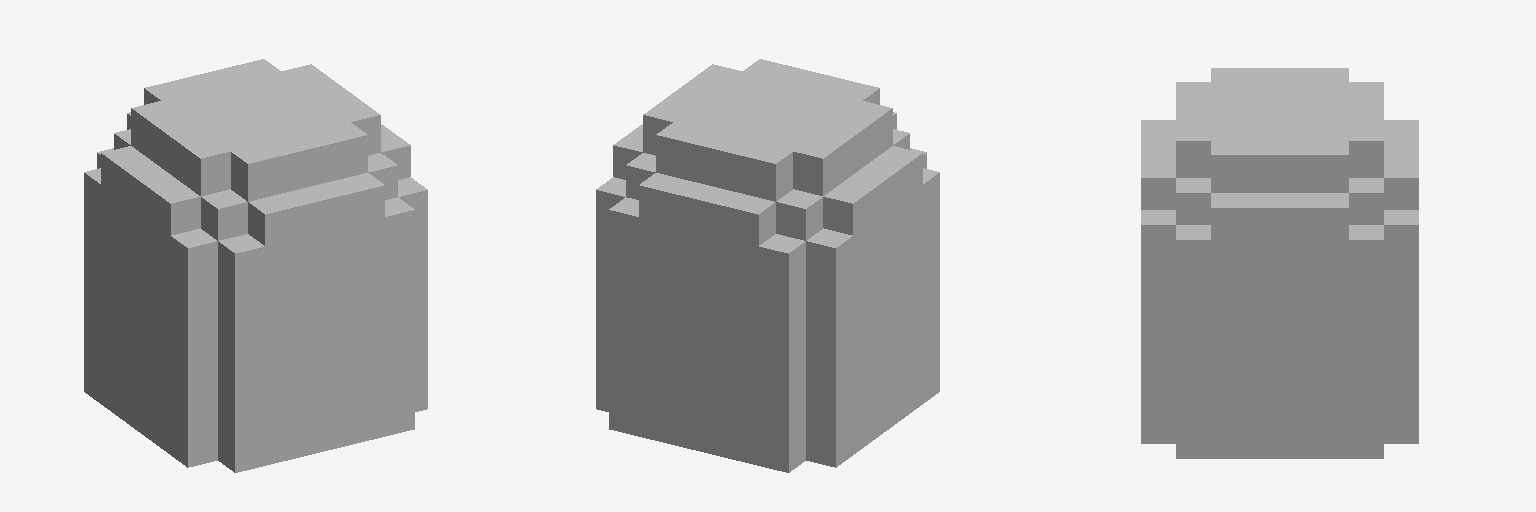
File: pakaman wall.obj
3 renders of one model, left to right at view 1: azimuth 30°, elevation 25°; view 2: azimuth 150°, elevation 25°; view 3: azimuth 270°, elevation 25°, orthographic.
Parts seen in each view (by area): view 1: Plane; view 2: Plane; view 3: Plane.
Part boxes in pixels (left/top/right/bottom): Plane: left=84, top=59, right=427, bottom=472; Plane: left=596, top=59, right=939, bottom=472; Plane: left=1141, top=68, right=1418, bottom=458.
Size of the model in its own units: 2 by 2.3 by 2.